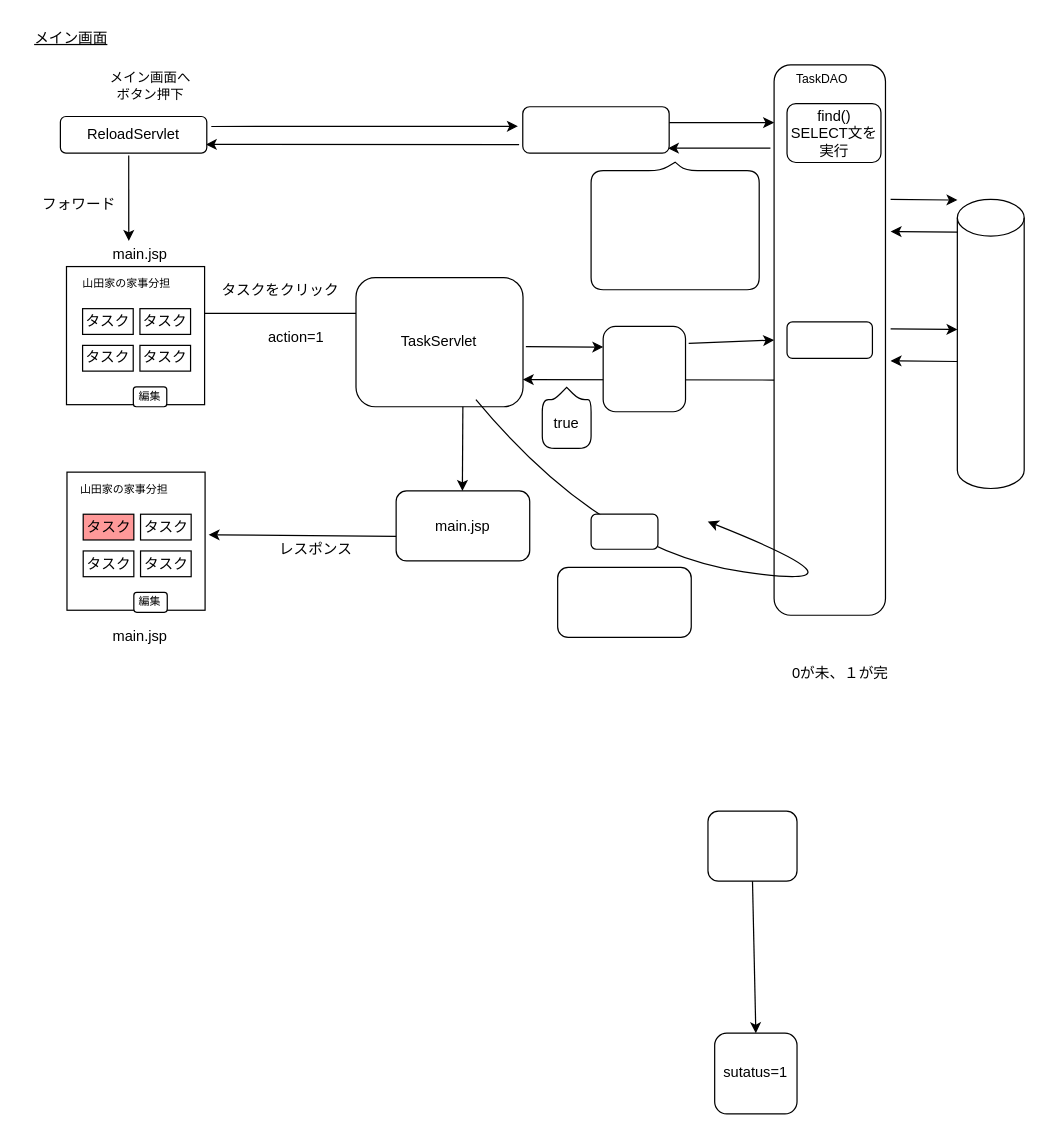
Image size: 1046x1136. Some labels were removed from this diagram. Here are the shapes that lost their labels. From the top down, the centre of each, then its label:
the point at 595,129: GetTaskListLogic
the point at 674,225: roomID TASK userid status
the point at 829,339: update()
the point at 990,343: [taskDB] roomID mission userid status
the point at 644,368: ActionLogic
the point at 624,531: 取得
the point at 623,601: userid status TASK
the point at 752,845: sutatus=0
